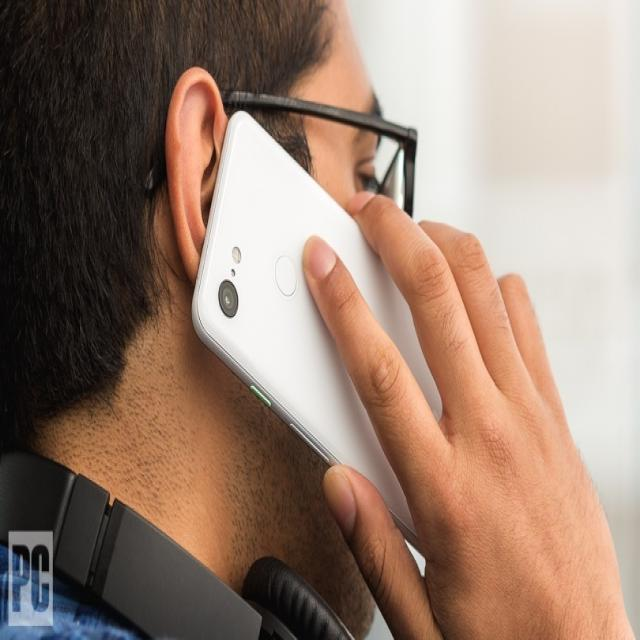Phone: (190, 108, 442, 554)
